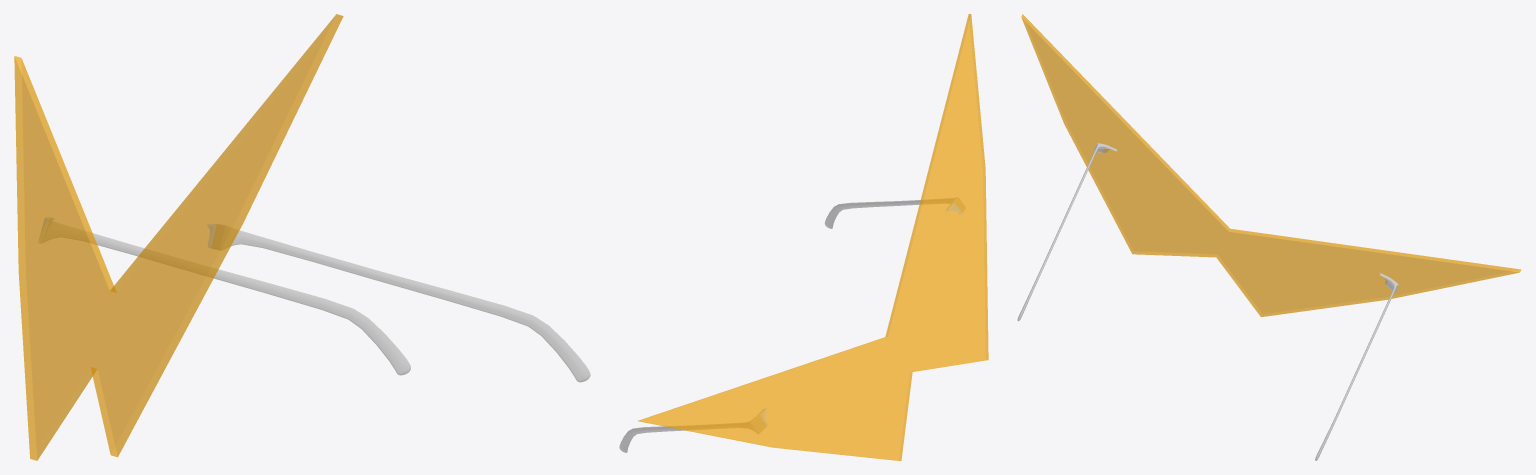
File: kamina_glasses.glb
3 views of the same model, side by side, from view 1: azimuth 30°, elevation 25°; view 2: azimuth 150°, elevation 25°; view 3: azimuth 270°, elevation 25° (orthographic). The views are drawn at different scales.
Parts seen in each view (by area): view 1: skfb_offset; view 2: skfb_offset; view 3: skfb_offset.
Boxes of the visible parts, x1,y1,x2,y2 form: skfb_offset: (14,14,590,460); skfb_offset: (619,14,988,460); skfb_offset: (1017,14,1521,460).
Bounding box in the file's own units: 149 × 194 × 249.
